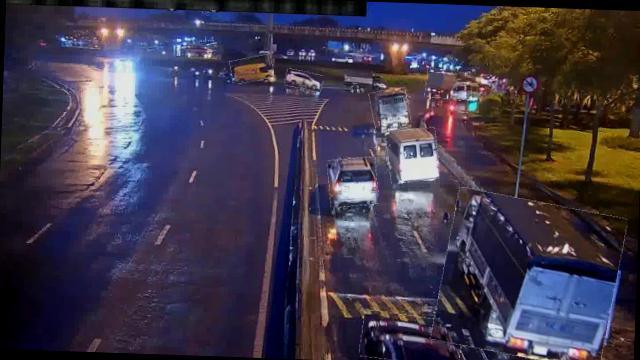Bus: (386, 127, 440, 184), (448, 81, 472, 101)
Car: (359, 312, 463, 360), (327, 156, 379, 208), (284, 70, 323, 91)
Truck: (434, 193, 622, 360), (369, 88, 412, 133), (230, 56, 274, 84), (426, 72, 458, 100)
